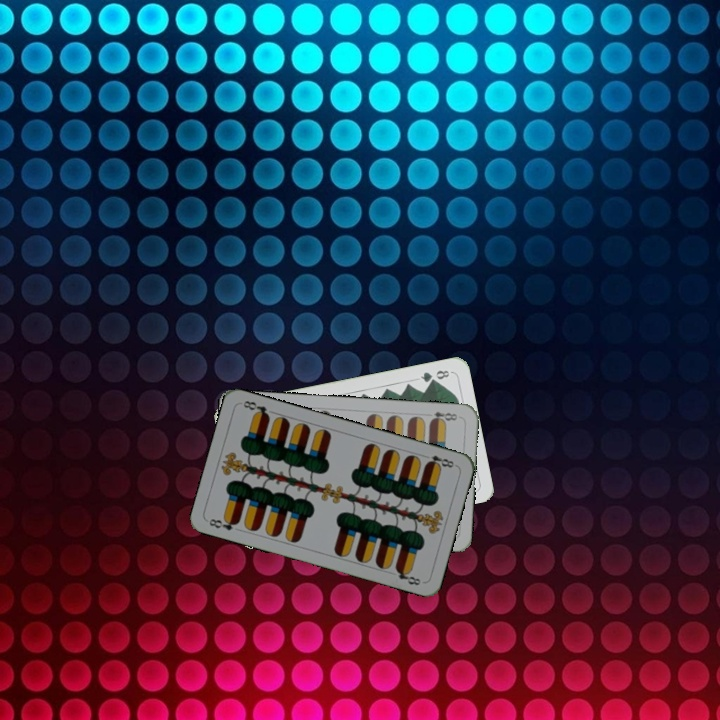E8: (419, 451, 458, 471), (205, 513, 242, 533), (426, 408, 460, 425)
G8: (416, 366, 452, 385)
